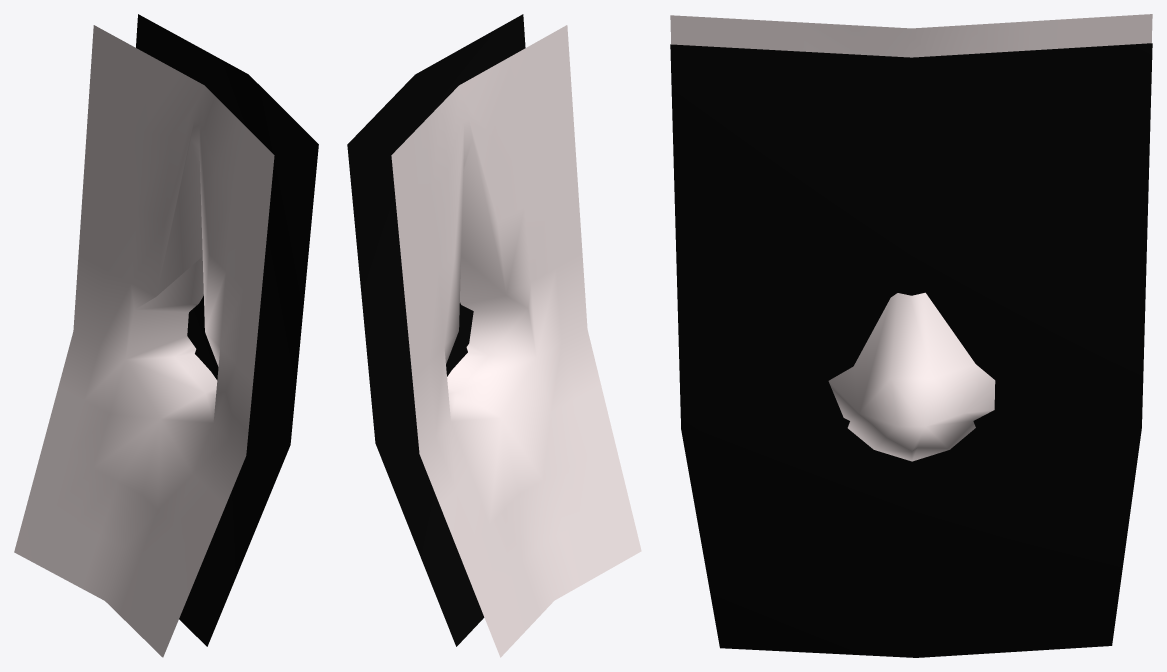
File: nose 6.fbx
3 views of the same model, side by side, from view 1: azimuth 30°, elevation 25°; view 2: azimuth 150°, elevation 25°; view 3: azimuth 270°, elevation 25° (orthographic). The views are drawn at different scales.
Parts seen in each view (by area): view 1: Nose 1; view 2: Nose 1; view 3: Nose 1.
Part boxes in pixels (x1,y1,x2,y2): Nose 1: (14,14,318,657); Nose 1: (347,14,641,657); Nose 1: (670,14,1152,657).
Size of the model in its own units: 48.74 by 116 by 76.19.
2 materials, 1 textured.
